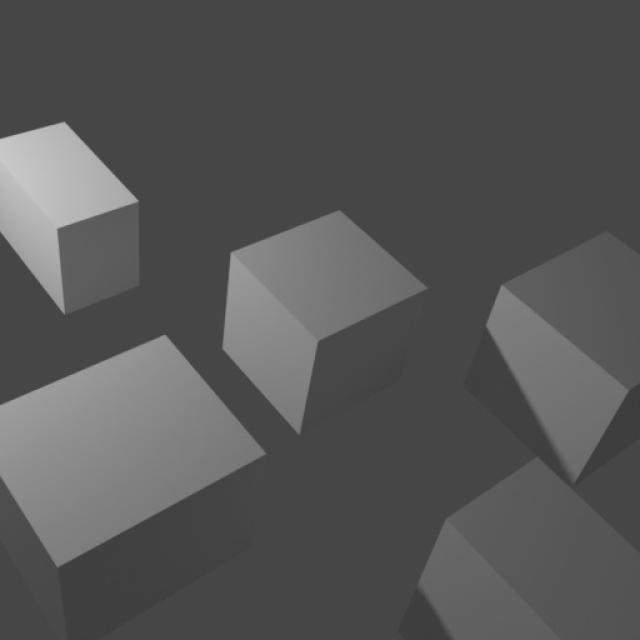Cube: (0, 335, 266, 640), (224, 209, 429, 435), (463, 230, 640, 488), (398, 457, 640, 640), (0, 121, 141, 317)
